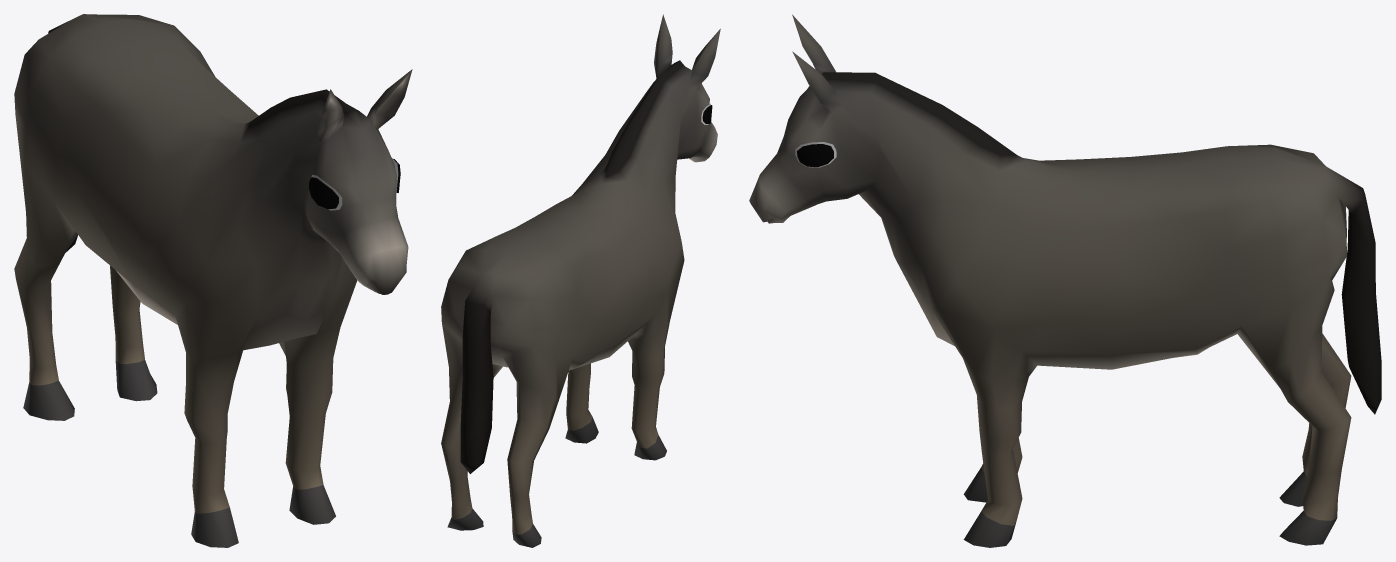
Rendered from animals-animals-donkey_v1.glb.
3 views of the same model, side by side, from view 1: azimuth 30°, elevation 25°; view 2: azimuth 150°, elevation 25°; view 3: azimuth 270°, elevation 25° (orthographic). The views are drawn at different scales.
Visible parts, largest first — view 1: Donkey.001; view 2: Donkey.001; view 3: Donkey.001.
Part boxes in pixels (x1,y1,x2,y2): Donkey.001: (14,14,412,547); Donkey.001: (441,14,720,547); Donkey.001: (749,14,1381,547).
Bounding box in the file's own units: 0.5111 × 1.53 × 1.81.
